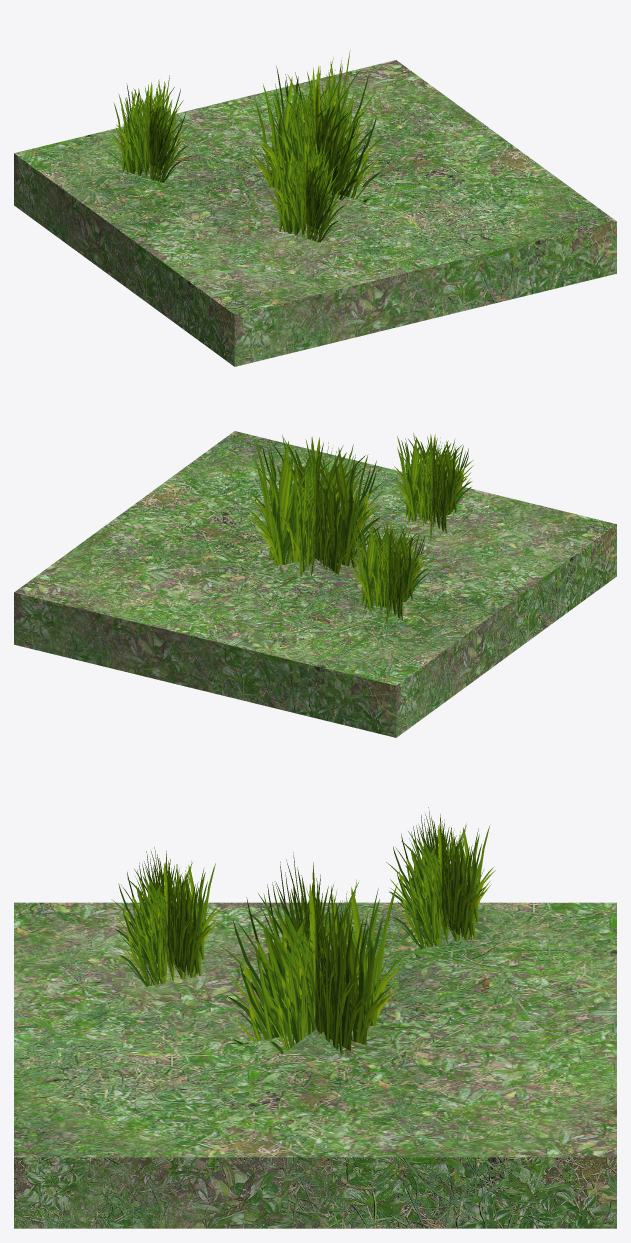
Rendered from grrass.FBX.
3 views of the same model, one above another, from view 1: azimuth 30°, elevation 25°; view 2: azimuth 150°, elevation 25°; view 3: azimuth 270°, elevation 25° (orthographic). The views are drawn at different scales.
Parts seen in each view (by area): view 1: Plane001, Plane002, Plane004, Plane005, Plane007, Plane012, Plane020, Plane015, Plane023, Plane016, Plane024, Plane008 (+8 smaller); view 2: Plane001, Plane002, Plane006, Plane007, Plane008, Plane004, Plane005, Plane012, Plane020, Plane017, Plane025, Plane010 (+8 smaller); view 3: Plane001, Plane004, Plane007, Plane006, Plane005, Plane008, Plane009, Plane023, Plane015, Plane014, Plane022, Plane010 (+8 smaller).
Boxes of the visible parts, x1,y1,x2,y2 form: Plane001: (14,60,616,366); Plane002: (256,64,375,196); Plane004: (273,66,360,200); Plane005: (247,94,384,187); Plane007: (275,50,353,176); Plane012: (115,82,183,161); Plane020: (272,141,340,220); Plane015: (125,83,174,169); Plane023: (282,144,331,228); Plane016: (109,100,190,172); Plane024: (266,159,348,231); Plane008: (286,64,340,175); Plane001: (14,431,616,737); Plane002: (255,435,374,567); Plane006: (254,453,378,566); Plane007: (247,437,385,558); Plane008: (247,454,385,559); Plane004: (292,442,336,575); Plane005: (292,457,348,574); Plane012: (356,520,422,599); Plane020: (399,433,467,512); Plane017: (353,532,425,609); Plane025: (397,444,469,522); Plane010: (349,522,429,592); Plane001: (14,902,616,1228); Plane004: (219,882,407,1033); Plane007: (275,852,354,1053); Plane006: (235,882,392,1044); Plane005: (267,879,356,1056); Plane008: (260,872,368,1051); Plane009: (227,916,400,1044); Plane023: (111,862,221,963); Plane015: (386,825,495,926); Plane014: (390,844,491,948); Plane022: (117,882,216,986); Plane010: (419,807,464,926).
Size of the model in its own units: 2.5 by 1.23 by 2.5.
Materials: 2 (2 with a texture image).
